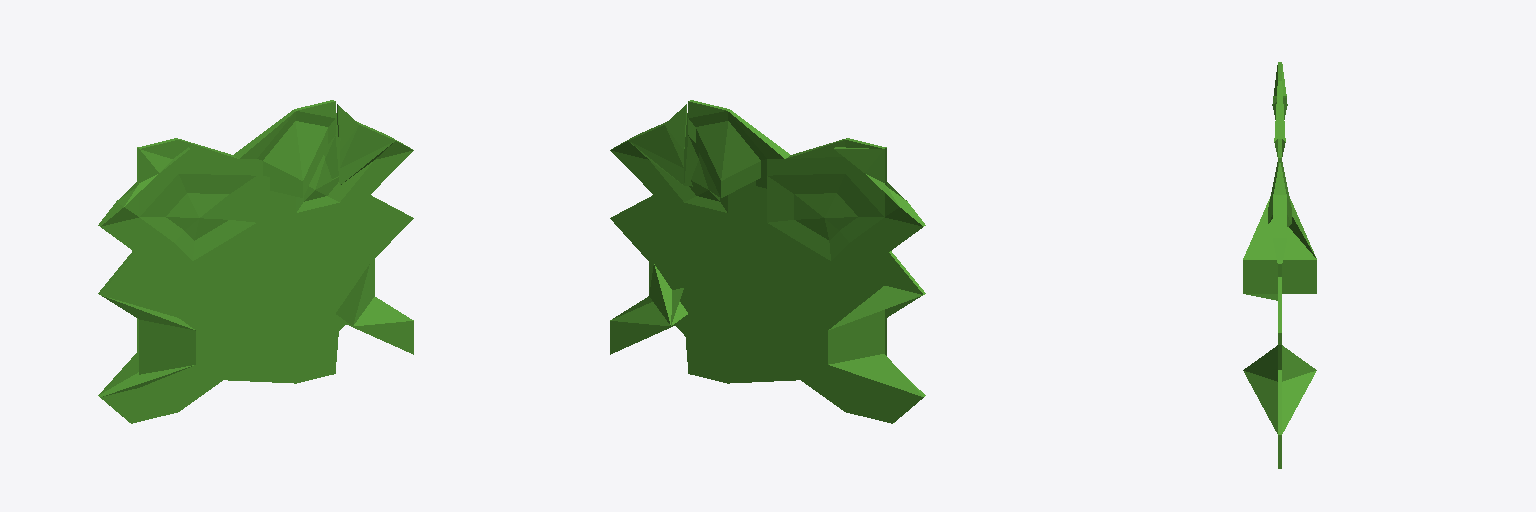
The picture shows the model from 3 angles: view 1: azimuth 30°, elevation 25°; view 2: azimuth 150°, elevation 25°; view 3: azimuth 270°, elevation 25°; orthographic projection.
Parts seen in each view (by area): view 1: 立方体; view 2: 立方体; view 3: 立方体.
Boxes of the visible parts, box(x1,y1,x2,y2) form: 立方体: box(98, 100, 413, 423); 立方体: box(610, 100, 925, 423); 立方体: box(1243, 62, 1316, 468).
Size of the model in its own units: 164 by 136 by 33.63.
1 materials, 1 textured.